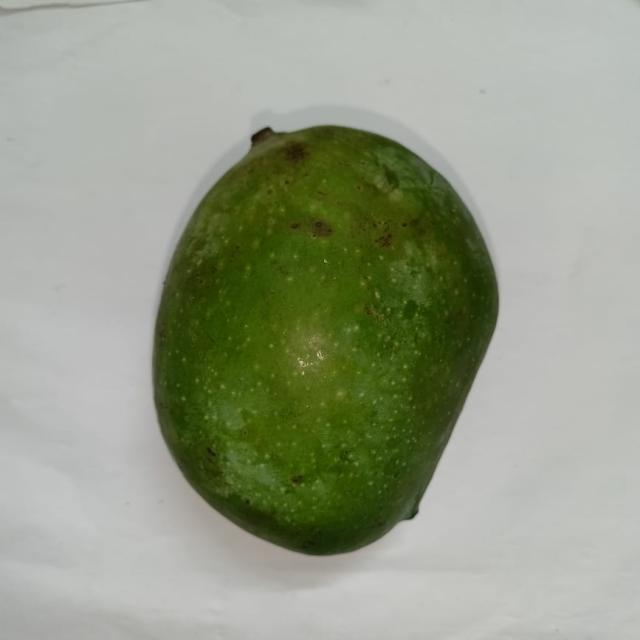rotten_mango: (154, 125, 501, 556)
